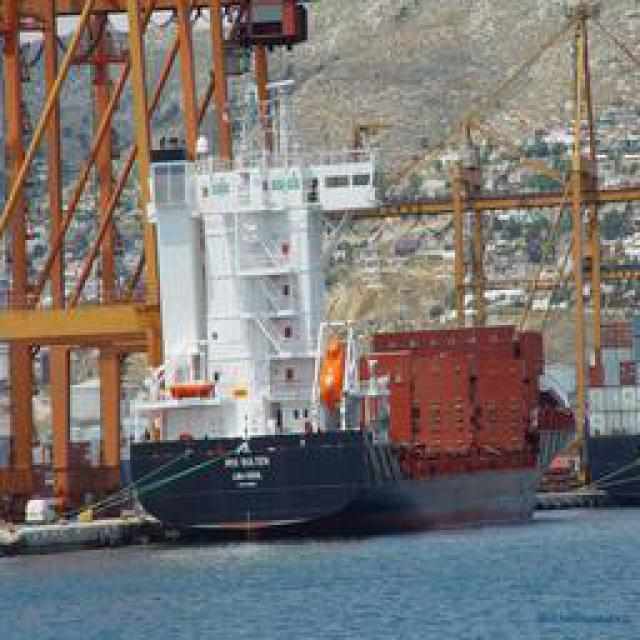Ship: (127, 120, 567, 533)
